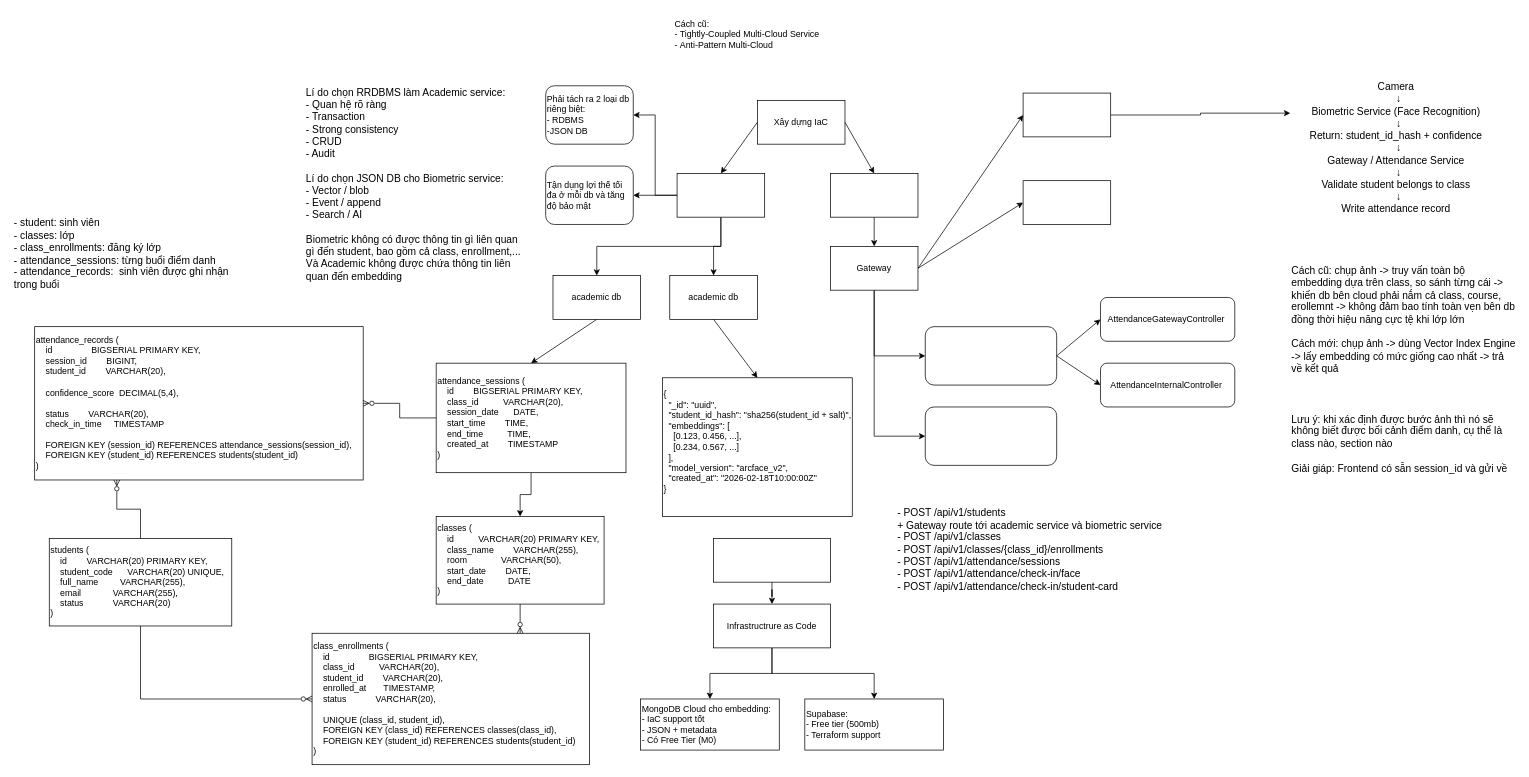
Image size: 1529x777. Some labels were removed from this diagram. The centre of each missing label's shape, as x and y in pixels:
"academic service" goes at pixel 1066 202.
"biometric service" goes at pixel 1066 114.
"Distributed system" goes at pixel 874 195.
"Hơi cực khâu: - Tạo các DTO - Code các service và kiểm thử" goes at pixel 991 435.
"Opentofu" goes at pixel 771 560.
"Phân ra: - gateway để frrontend gọi - internal để tương tác nội bộ" goes at pixel 991 355.
"Setup db" goes at pixel 720 195.
